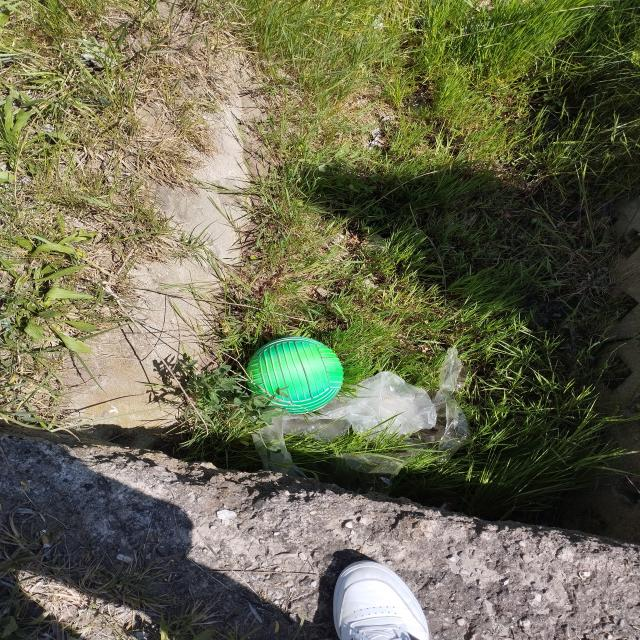zielona: (246, 337, 343, 414)
